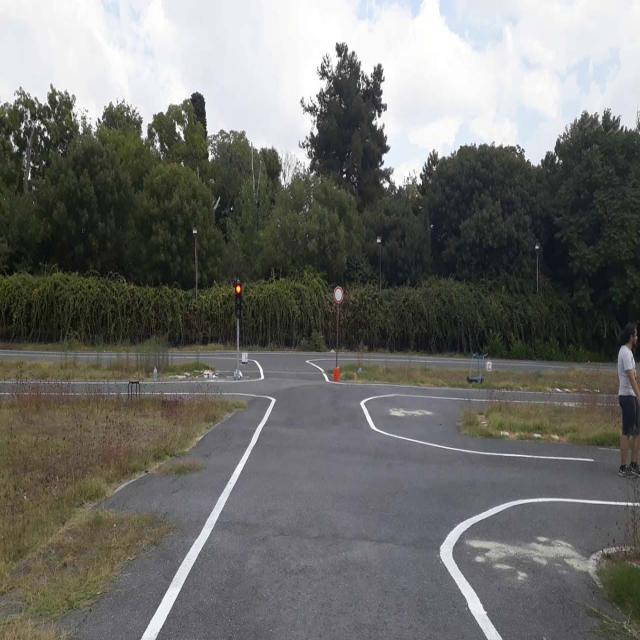kirmizi: (235, 284, 241, 318)
